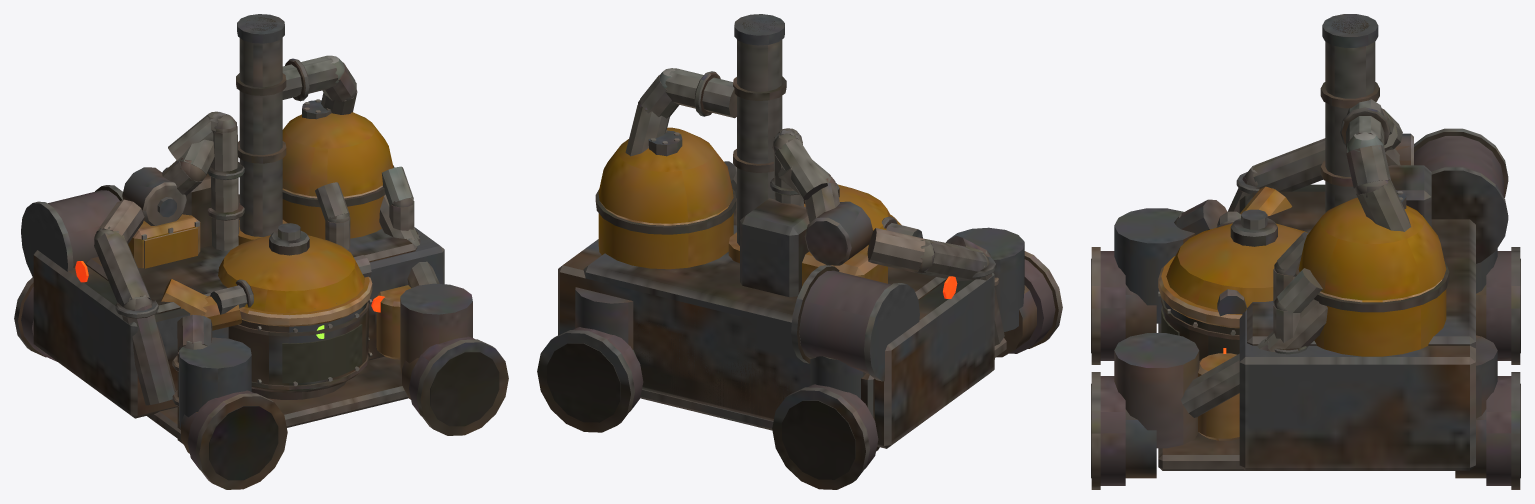
File: chemical-plant-south.glb
3 renders of one model, left to right at view 1: azimuth 30°, elevation 25°; view 2: azimuth 150°, elevation 25°; view 3: azimuth 270°, elevation 25°, orthographic. The views are drawn at different scales.
Visible parts, largest first — view 1: body; view 2: body; view 3: body.
Part boxes in pixels (bbox=[...]): body: bbox=[14, 14, 508, 489]; body: bbox=[537, 14, 1062, 489]; body: bbox=[1091, 14, 1520, 489].
Bounding box in the file's own units: 2.89 × 3.04 × 2.91.
3 materials, 3 textured.
